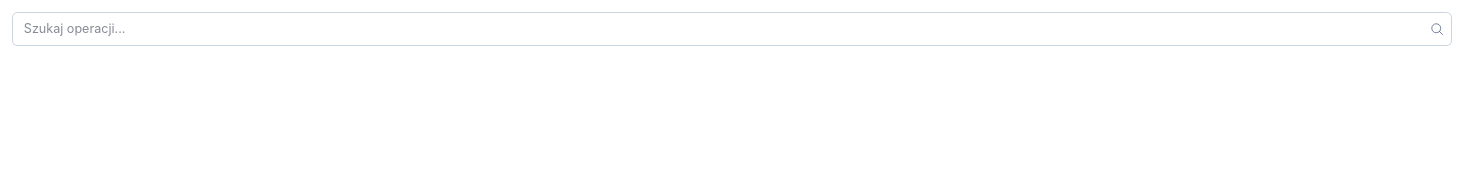
Test: SearchBox › opens the results page without a phrase for an empty field
The width and height of the screenshot is (1464, 172).
Step 1. Click the button named "Szukaj" → coordinates (1438, 29), box [1423, 12, 1452, 46]
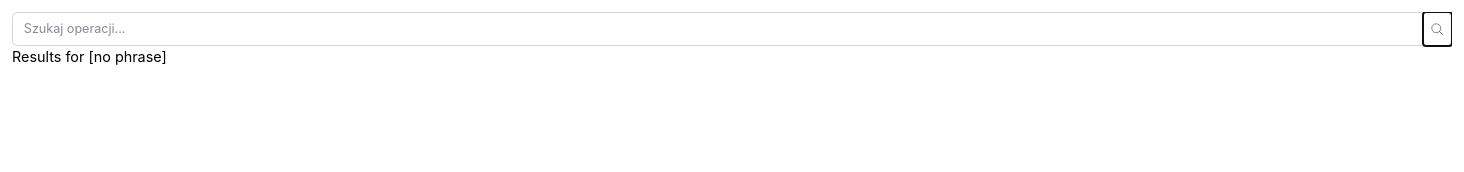
Expected: the text "Results for [no phrase]" is shown, [12, 48, 167, 65]
